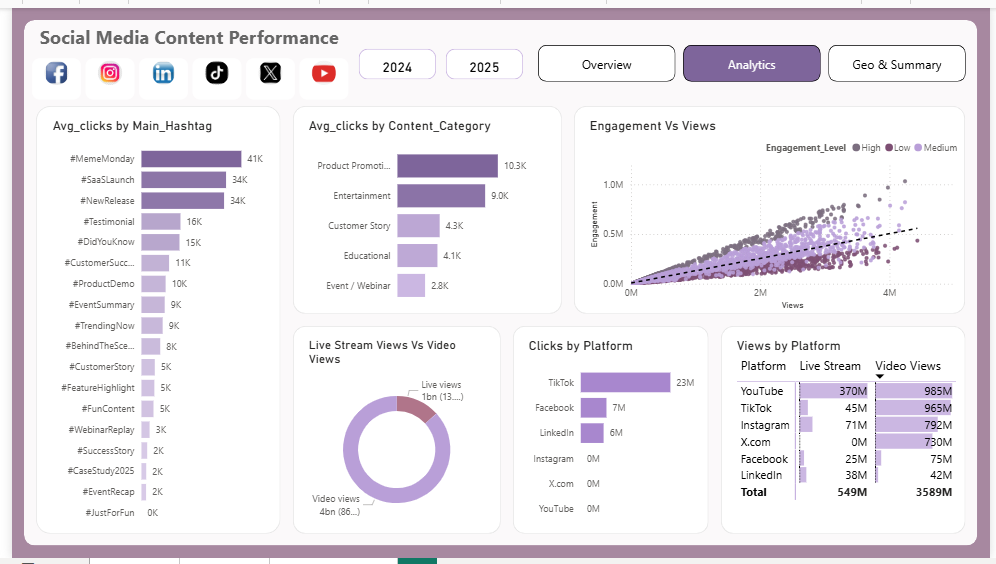

The dashboard page shown, as its layout file describes it:
{"tool":"powerbi","page":{"name":"Analytics","canvas":[1280,720],"ordinal":1},"visuals":[{"type":"shape","box":[16,16,1248,688],"z":0},{"type":"shape","box":[32,128,320,560],"z":5000},{"type":"shape","box":[368,128,352,272],"z":5500},{"type":"clusteredBarChart","fields":{"Category":["Sheet1.Main_Hashtag"],"Y":["Mes.Avg_clicks"]},"box":[48,144,304,544],"z":6000},{"type":"clusteredBarChart","fields":{"Y":["Mes.Avg_clicks"],"Category":["Sheet1.Content_Category"]},"box":[384,144,304,256],"z":8500},{"type":"shape","box":[736,128,512,272],"z":8750},{"type":"scatterChart","title":"Engagement Vs Views","fields":{"Series":["Sheet1.Engagement_Level"],"X":["Sheet1.Views"],"Y":["Sheet1.Engagement"]},"box":[752,144,496,256],"z":9000},{"type":"shape","box":[368,416,272,272],"z":9250},{"type":"donutChart","title":"Live Stream Views Vs Video Views","fields":{"Y":["Sum(Sheet1.Live_Stream_Views)","Sum(Mes.Video_views)"]},"box":[384,432,240,256],"z":9500},{"type":"shape","box":[656,416,256,272],"z":9750},{"type":"clusteredBarChart","title":"Clicks by Platform","fields":{"Y":["Mes.Total_clicks"],"Category":["Sheet1.Platform"]},"box":[672,432,240,256],"z":10000},{"type":"shape","box":[928,416,320,272],"z":10250},{"type":"pivotTable","title":"Views by Platform","fields":{"Rows":["Sheet1.Platform"],"Values":["Sum(Sheet1.Live_Stream_Views)","Sum(Sheet1.Video_Views)"]},"box":[944,432,320,256],"z":10500},{"type":"advancedSlicerVisual","fields":{"Values":["Sheet1.Year"]},"box":[449,48,226,48],"z":10501},{"type":"pageNavigator","box":[688,48,560,48],"z":10502},{"type":"ChicletSlicer1448559807354","fields":{"Category":["Sheet1.Platform"],"Image":["Table.Img"]},"box":[18,63,430,72],"z":10503},{"type":"textbox","box":[32,16,560,48],"z":10504}]}

Visuals, with their boxes in screenshot pixels (x1, y1, x2, y2), scaled from the page's 1280x720 canvas onto the 996x564 screenshot:
shape: <region>12, 13, 984, 551</region>
shape: <region>25, 100, 274, 539</region>
shape: <region>286, 100, 560, 313</region>
clusteredBarChart - Sheet1.Main_Hashtag x Mes.Avg_clicks: <region>37, 113, 274, 539</region>
clusteredBarChart - Mes.Avg_clicks x Sheet1.Content_Category: <region>299, 113, 535, 313</region>
shape: <region>573, 100, 971, 313</region>
"Engagement Vs Views" scatterChart: <region>585, 113, 971, 313</region>
shape: <region>286, 326, 498, 539</region>
"Live Stream Views Vs Video Views" donutChart: <region>299, 338, 486, 539</region>
shape: <region>510, 326, 710, 539</region>
"Clicks by Platform" clusteredBarChart: <region>523, 338, 710, 539</region>
shape: <region>722, 326, 971, 539</region>
"Views by Platform" pivotTable: <region>735, 338, 984, 539</region>
advancedSlicerVisual - Sheet1.Year: <region>349, 38, 525, 75</region>
pageNavigator: <region>535, 38, 971, 75</region>
ChicletSlicer1448559807354 - Sheet1.Platform x Table.Img: <region>14, 49, 349, 106</region>
textbox: <region>25, 13, 461, 50</region>
